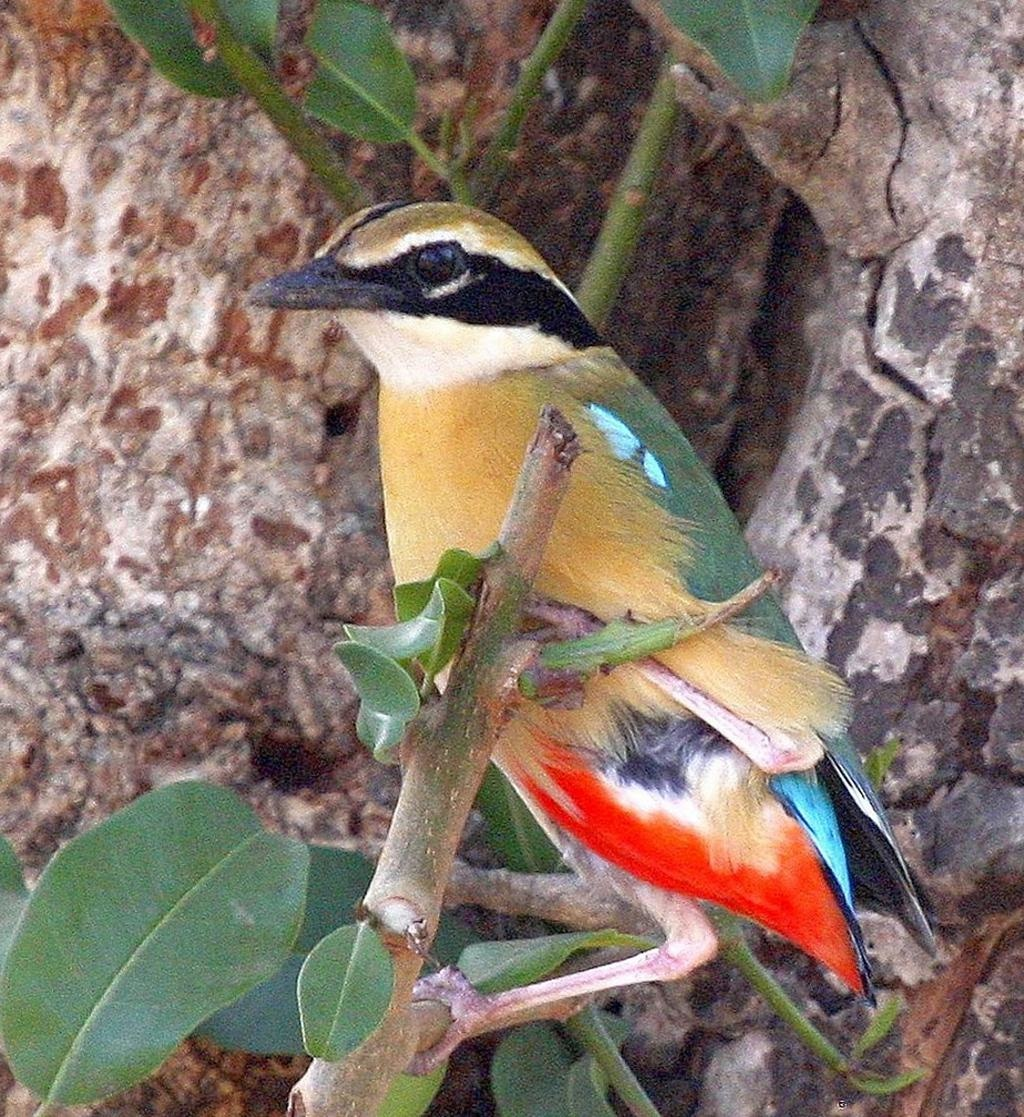pitta: (257, 159, 868, 986)
